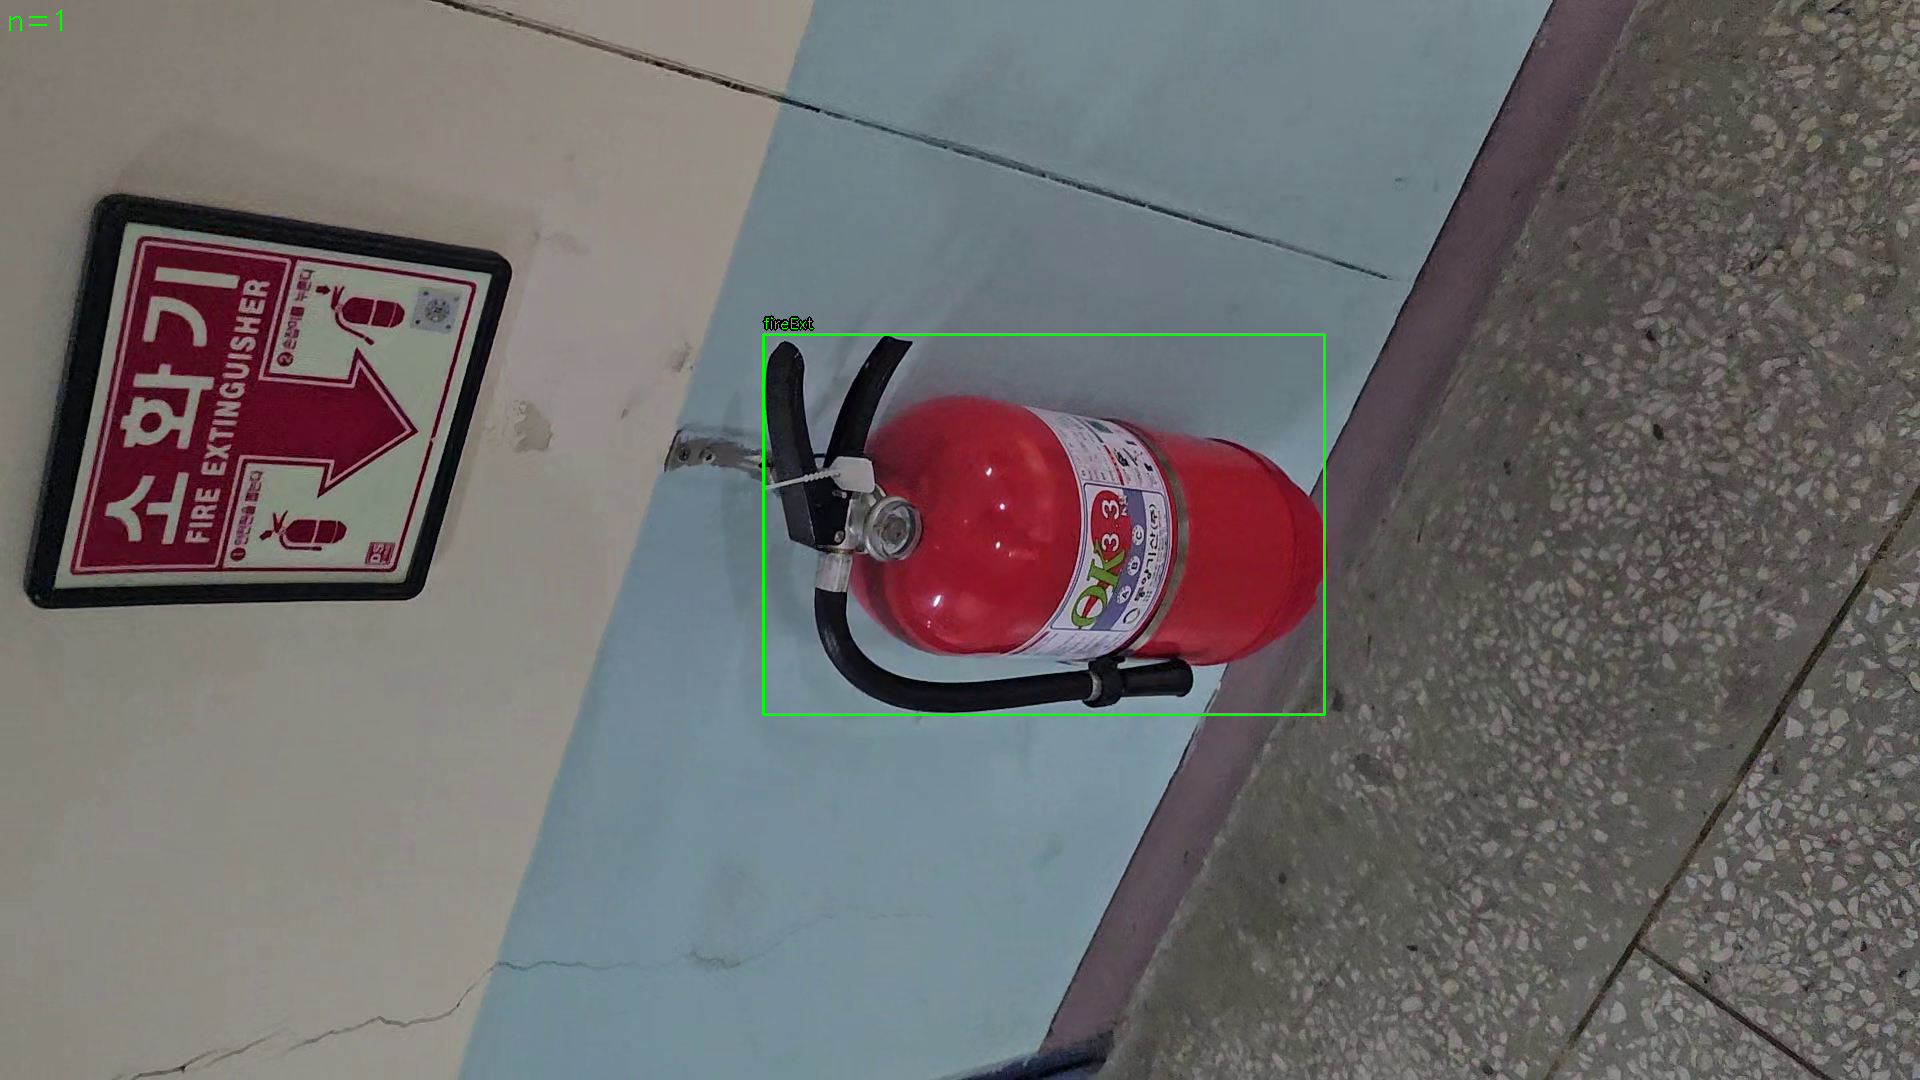lane: (764, 334, 1325, 715)
